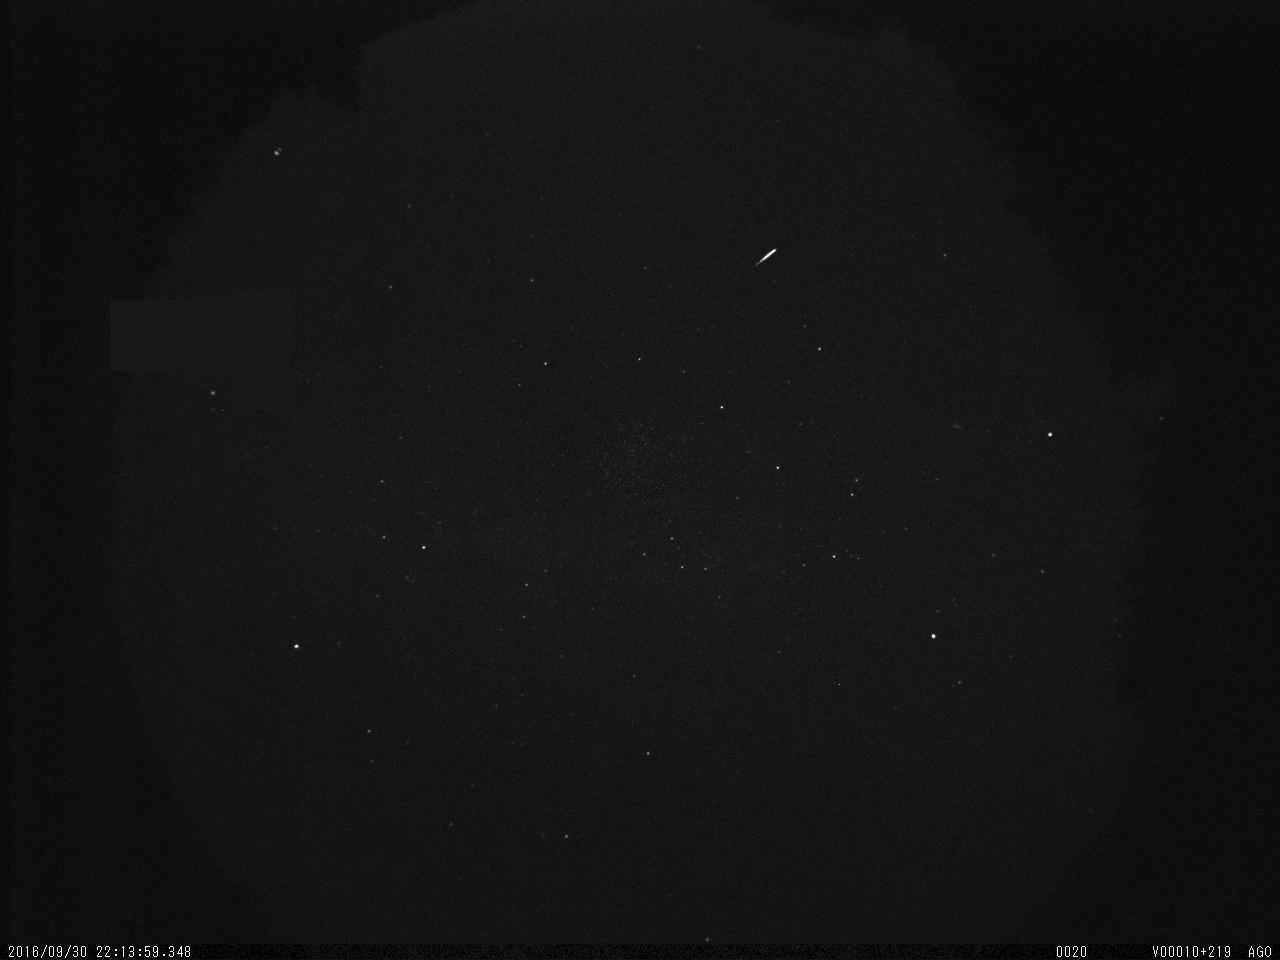meteor: (752, 242, 781, 272)
